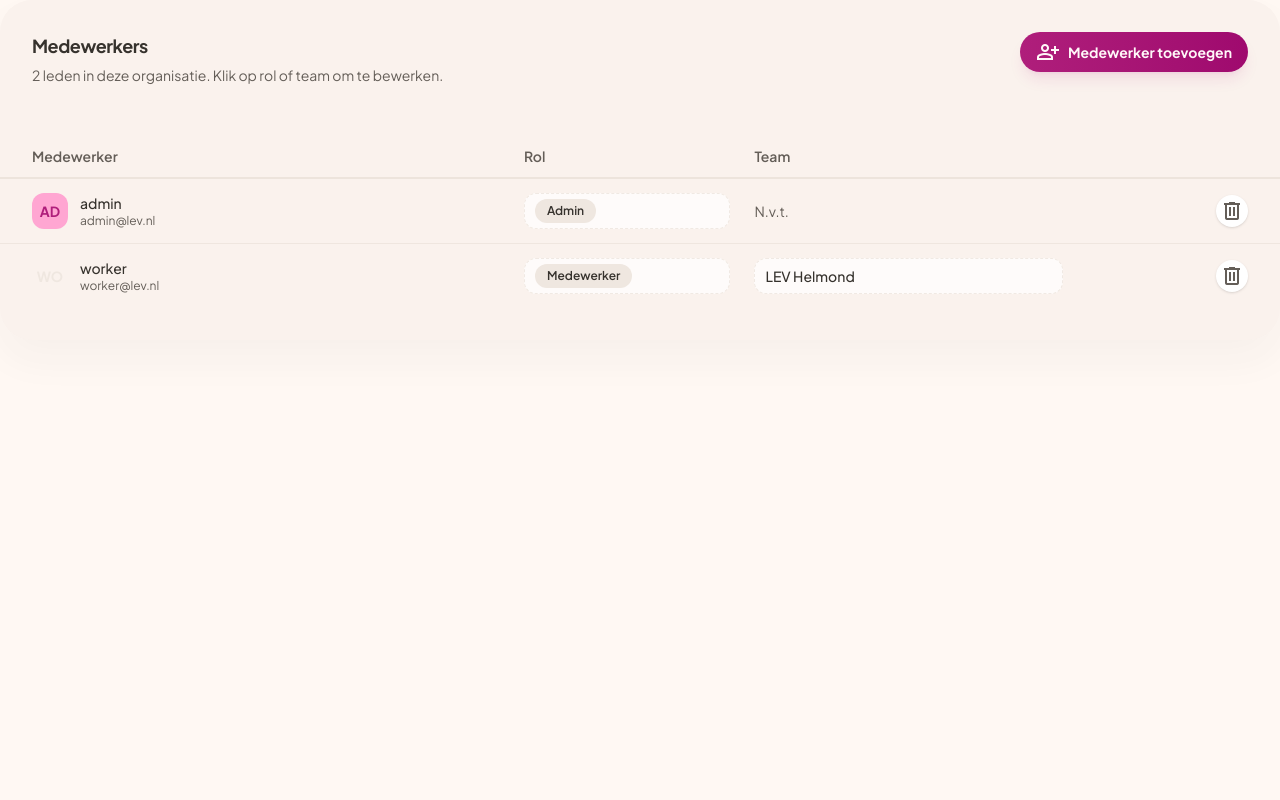
Test: <MembersTab /> › renders the table and opens the create member modal
The width and height of the screenshot is (1280, 800).
Expected: the heading "Medewerkers" is shown, top-left (32, 34), bottom-right (148, 57)
Click the button "Medewerker toevoegen" at (1134,52), box top-left (1020, 32), bottom-right (1248, 72)
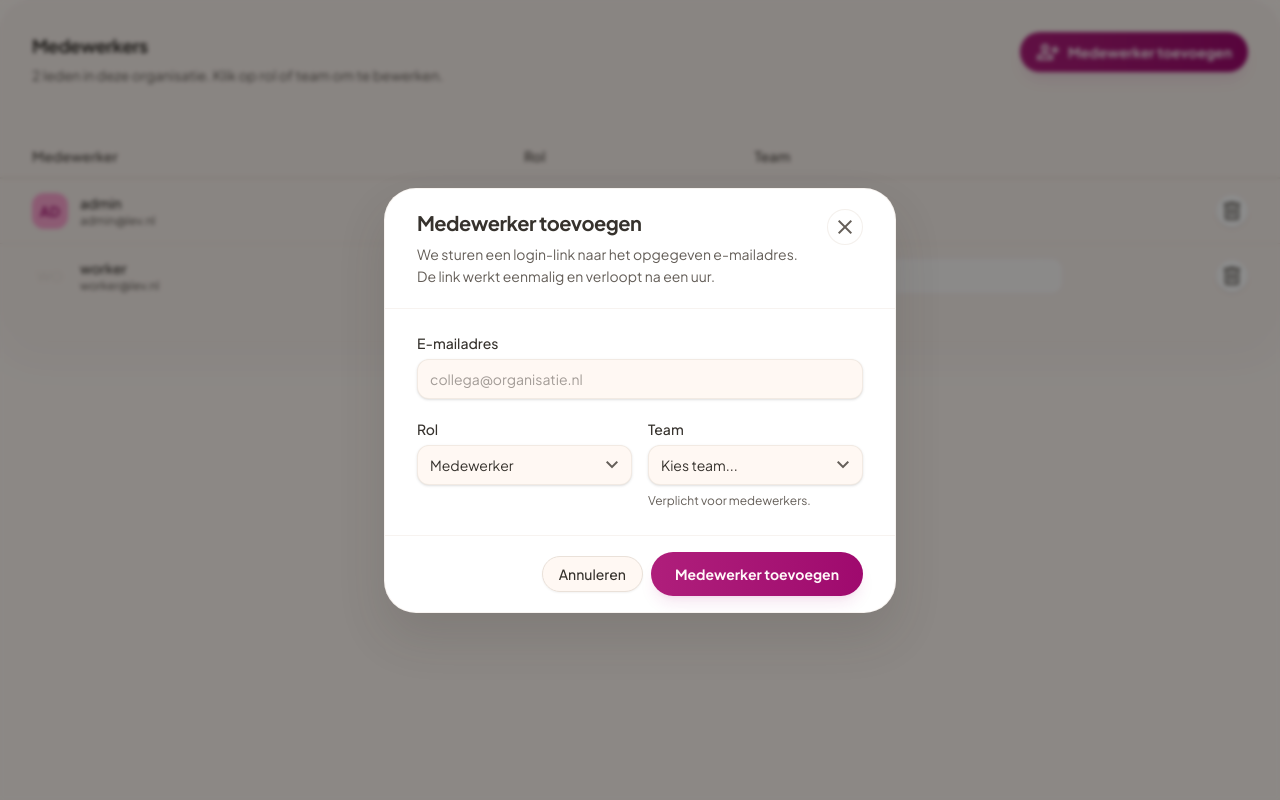
Now the dialog "Medewerker toevoegen" is shown, box top-left (384, 188), bottom-right (896, 612)
